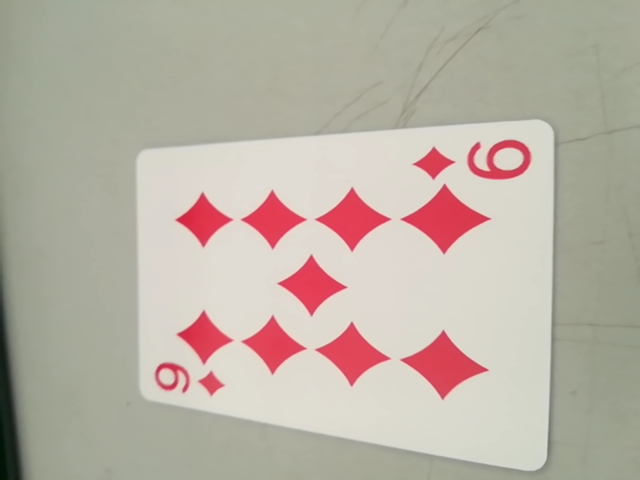fk 9: (413, 131, 536, 190), (148, 356, 233, 406)
